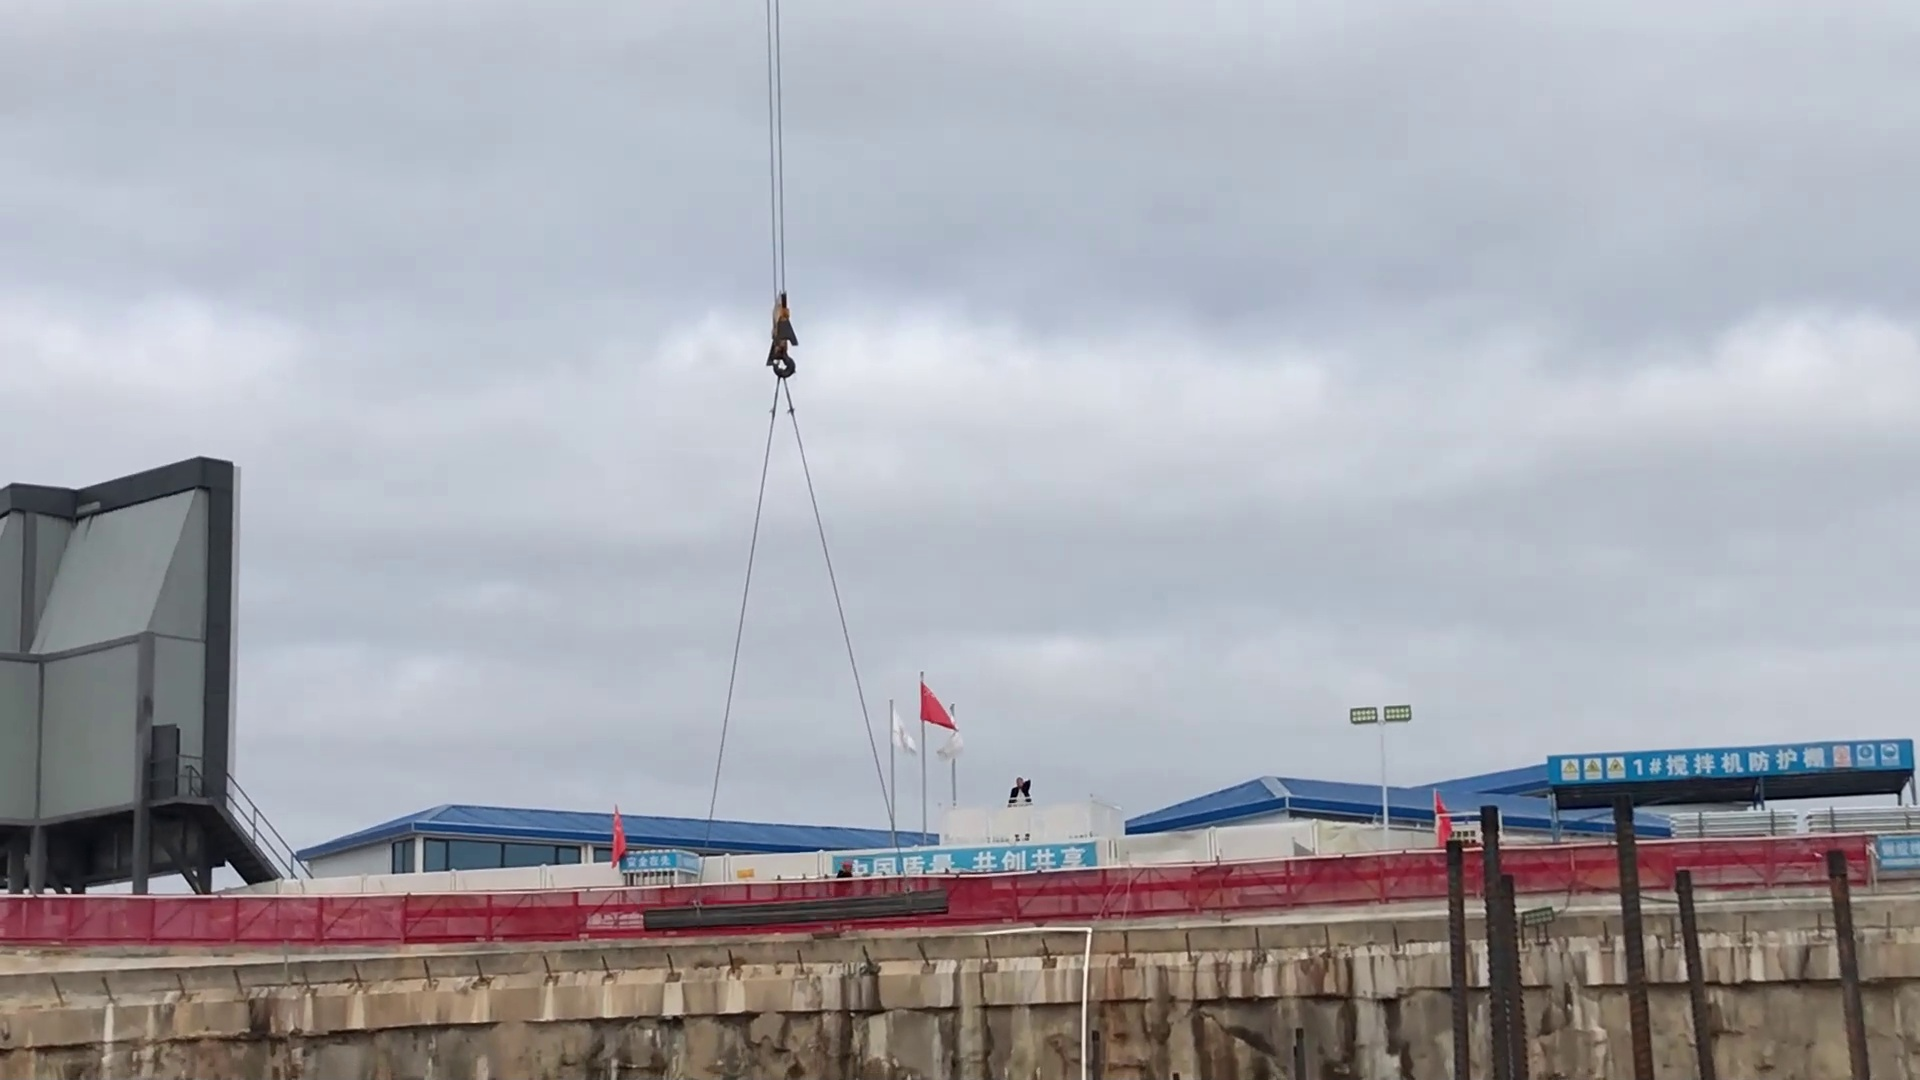fence: (957, 833, 1884, 938), (1, 878, 632, 959)
hook: (757, 286, 812, 390)
rebar: (636, 893, 967, 940)
slogan: (848, 837, 1105, 884)
